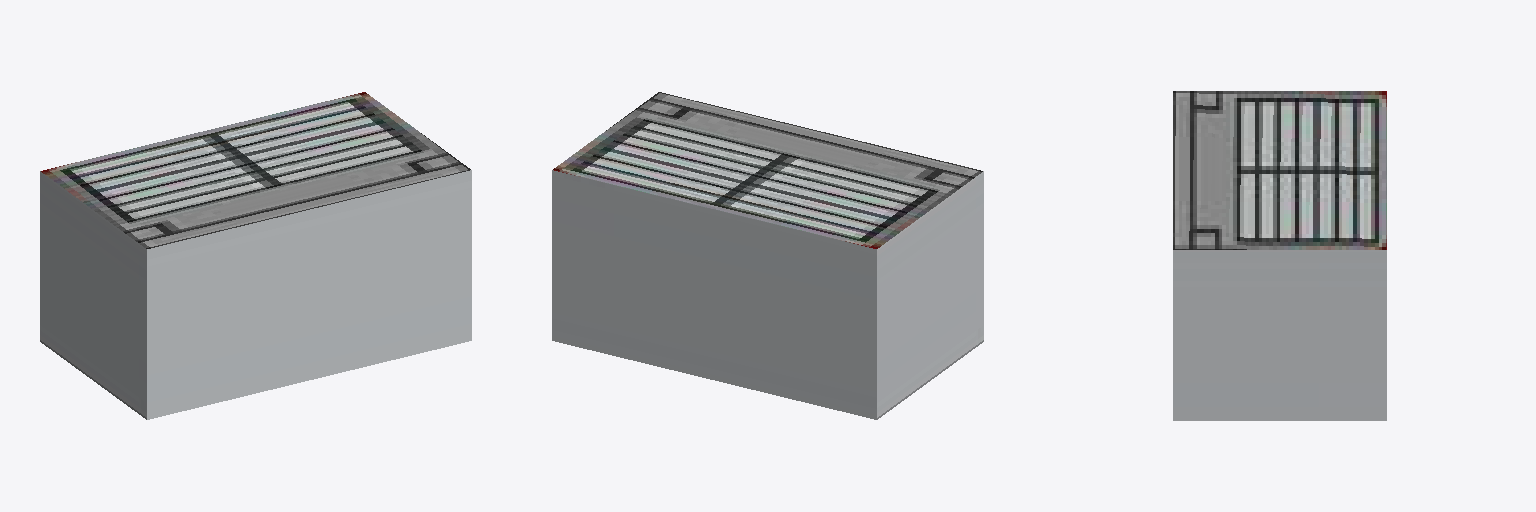
3 views of the same model, side by side, from view 1: azimuth 30°, elevation 25°; view 2: azimuth 150°, elevation 25°; view 3: azimuth 270°, elevation 25° (orthographic).
Parts seen in each view (by area): view 1: Abdomen; view 2: Abdomen; view 3: Abdomen.
Part boxes in pixels (x1,y1,x2,y2): Abdomen: (40,92,471,419); Abdomen: (552,92,983,419); Abdomen: (1173,91,1386,420).
Bounding box in the file's own units: 3.98 × 2 × 2.27.
Materials: 1 (1 with a texture image).